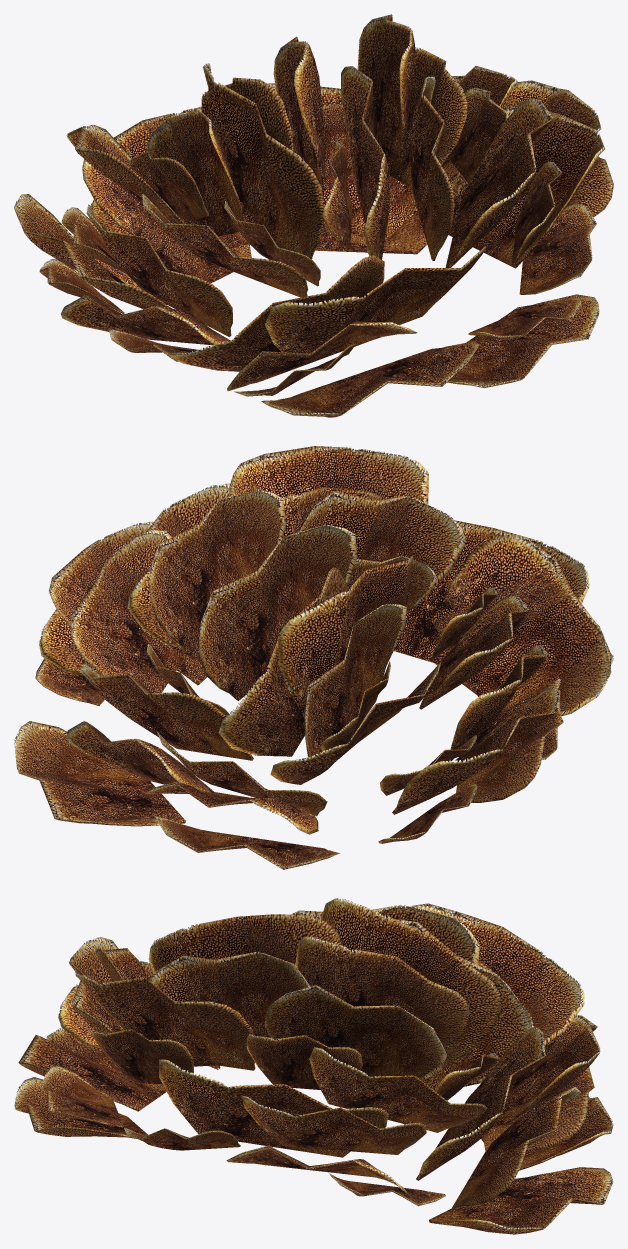
The model's file is Coral_01.fbx.
The picture shows the model from 3 angles, top to bottom: view 1: azimuth 30°, elevation 25°; view 2: azimuth 150°, elevation 25°; view 3: azimuth 270°, elevation 25°; orthographic projection. The views are drawn at different scales.
Visible parts, largest first — view 1: Coral_01_LOW; view 2: Coral_01_LOW; view 3: Coral_01_LOW.
Part boxes in pixels (x1,y1,x2,y2): Coral_01_LOW: (14,14,613,417); Coral_01_LOW: (14,446,613,869); Coral_01_LOW: (14,898,613,1234).
Size of the model in its own units: 1.33 by 0.7006 by 1.43.
